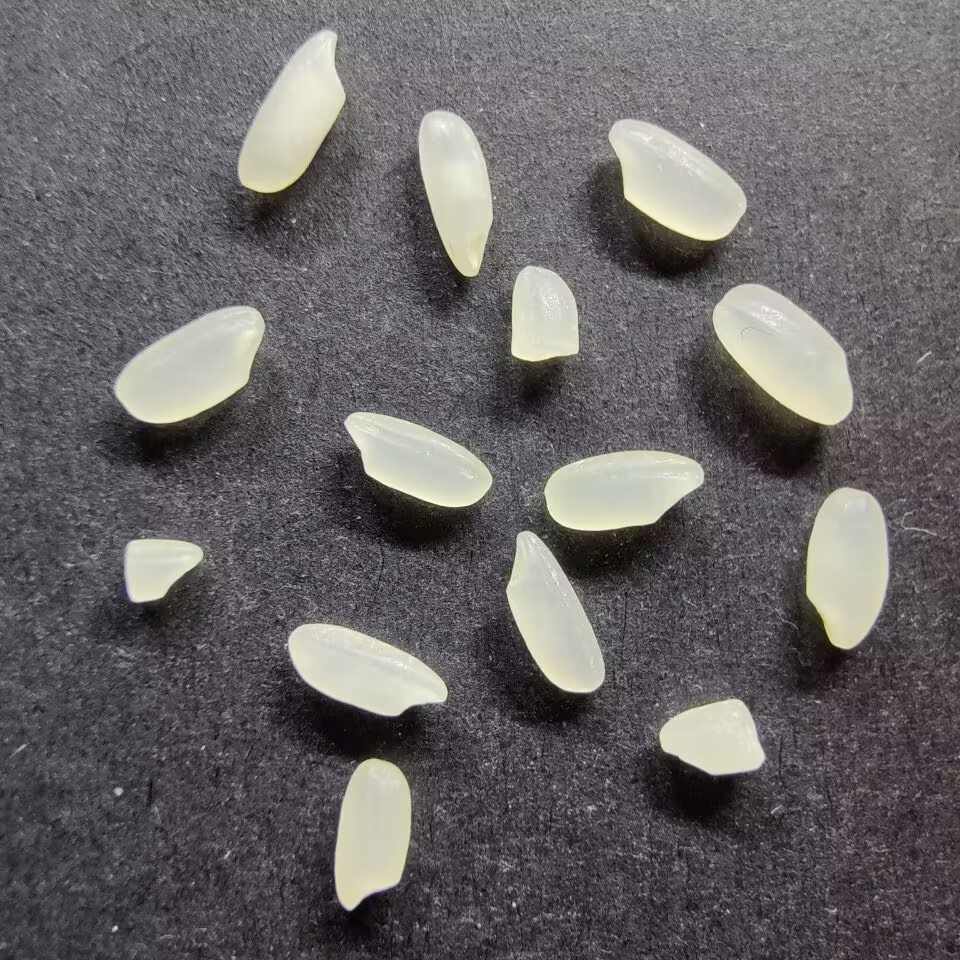broken: (657, 696, 770, 778), (507, 264, 582, 363), (122, 537, 206, 603)
rice: (711, 281, 855, 427), (235, 27, 349, 195), (111, 302, 264, 425), (604, 116, 750, 242), (502, 529, 605, 695), (285, 621, 449, 717), (341, 410, 495, 508), (803, 485, 890, 653), (542, 448, 706, 532), (417, 109, 497, 278), (332, 756, 413, 911)
